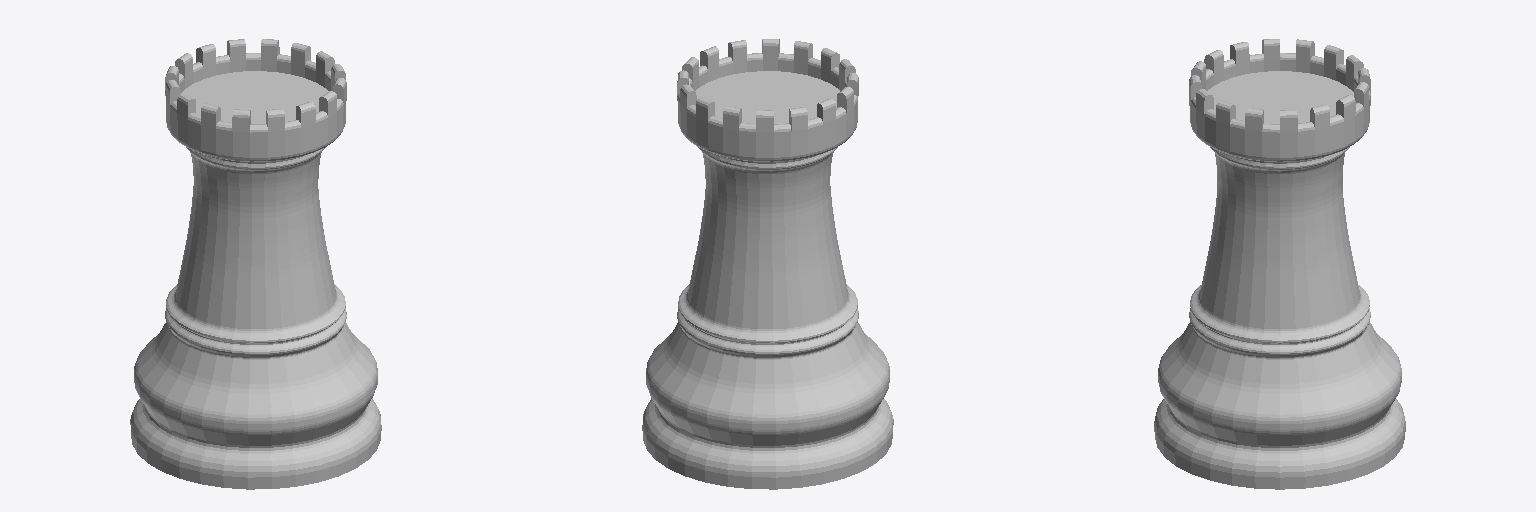
File: black_rook.obj
3 views of the same model, side by side, from view 1: azimuth 30°, elevation 25°; view 2: azimuth 150°, elevation 25°; view 3: azimuth 270°, elevation 25° (orthographic).
Parts seen in each view (by area): view 1: Dark_Rock_2; view 2: Dark_Rock_2; view 3: Dark_Rock_2.
Boxes of the visible parts, x1,y1,x2,y2 form: Dark_Rock_2: [130, 39, 381, 489]; Dark_Rock_2: [642, 39, 893, 489]; Dark_Rock_2: [1154, 39, 1405, 489].
Size of the model in its own units: 1.28 by 2.02 by 1.28.